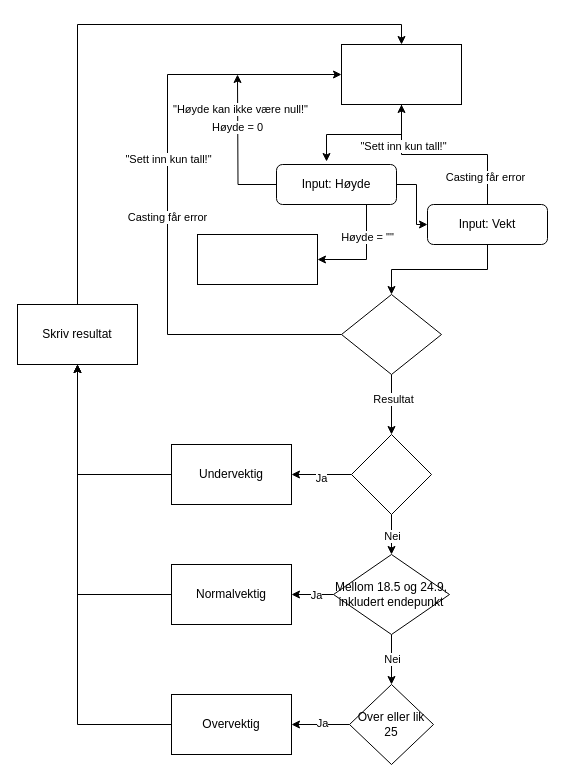
The diagram is 565 pixels wide and 782 high, and some of its shapes have lost their labels. The shapes that lost their labels are listed below. From the top down, each one's box as (x1, y1, x2, y2) in pixels, then its label:
(340, 44, 462, 104): Programstart: "BMI-kalkulator"
(196, 234, 318, 284): Program avsluttes "Takk for nå."
(340, 294, 442, 374): kalkuler_bmi()
(350, 434, 432, 514): Mindre enn eller lik 18,4
